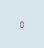zero: (19, 20, 23, 27)
